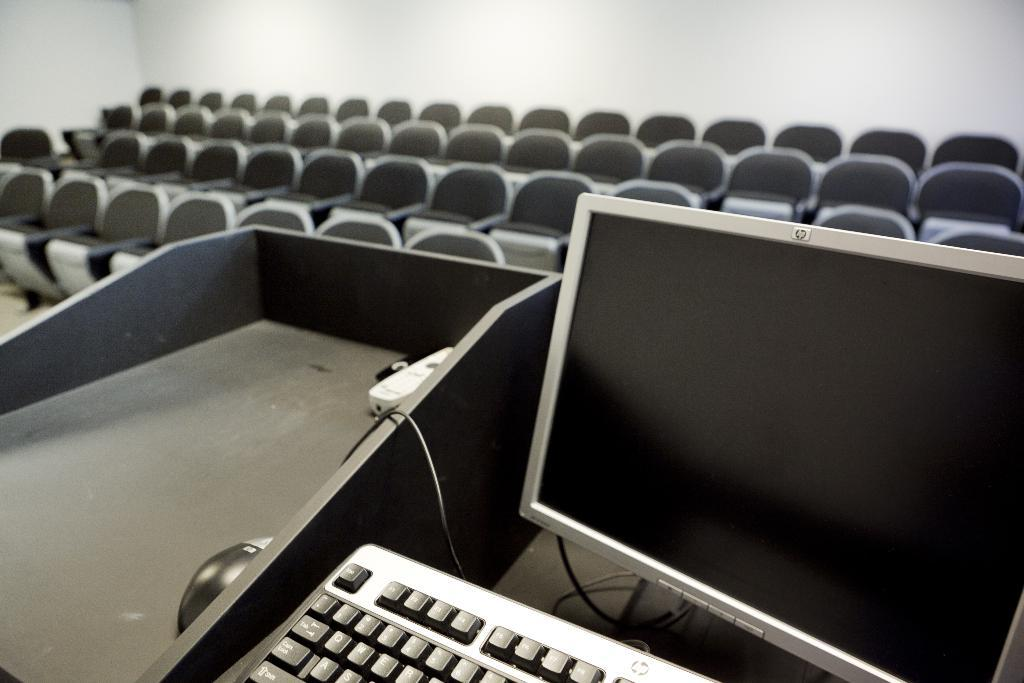Computer-keyboard: (212, 541, 726, 682)
